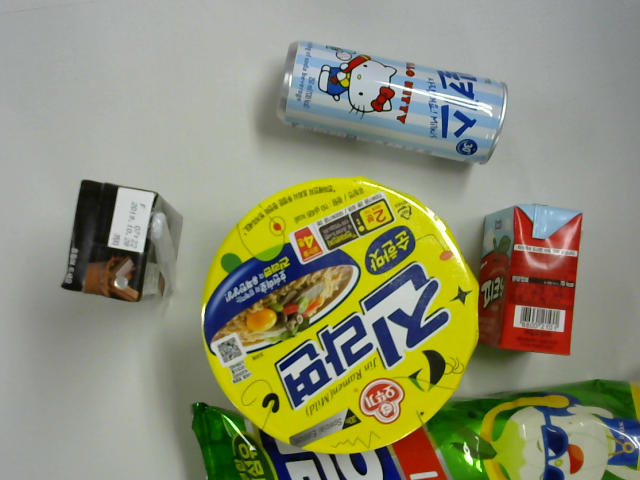Hush_Choco_Drink: (58, 175, 190, 312)
Jinlamyeon_Mild_Taste_Large_Cup: (190, 167, 485, 453)
Milkies_250ml: (258, 32, 515, 170)
Oninon_Ring: (162, 355, 640, 479)
Picnic_Apple: (465, 197, 601, 364)
